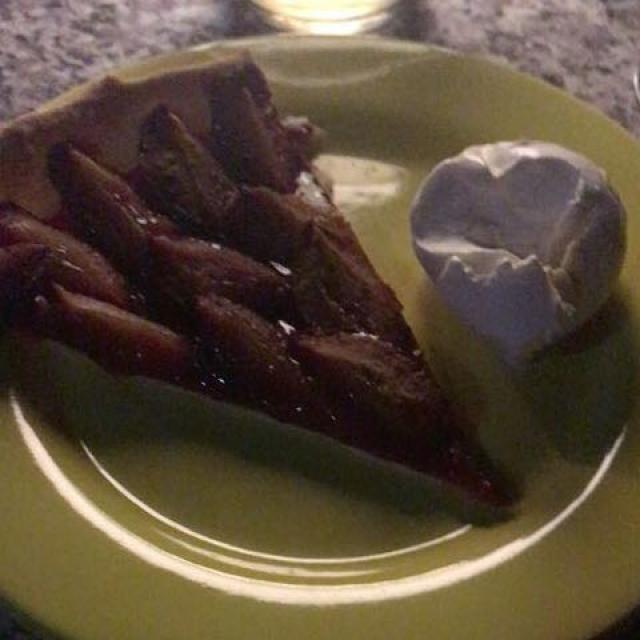ice-cream: (410, 123, 620, 347)
pie: (17, 70, 497, 497)
